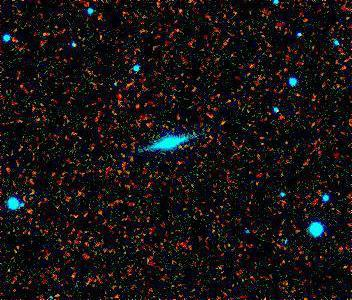star: (207, 109, 237, 139)
